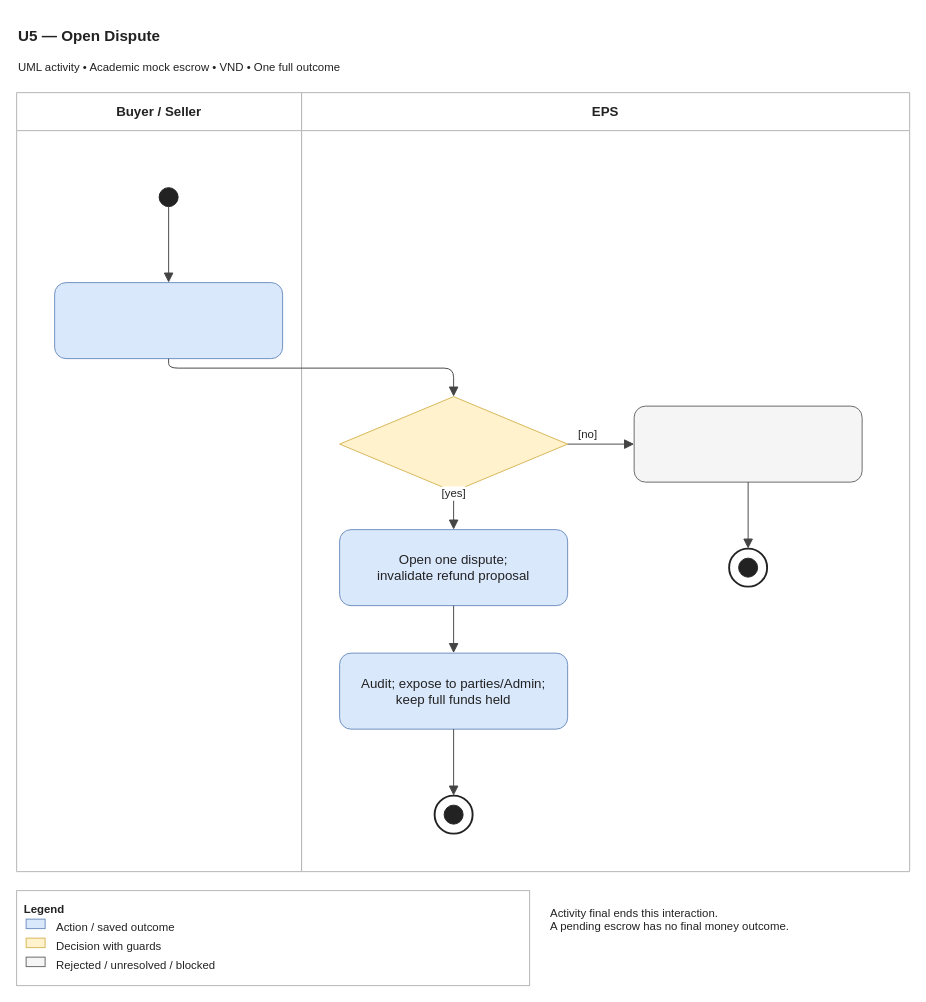
This 926x1002 diagram has some shape labels left out. Here are the shapes that lost their labels. From the top down, the centre of each, then its label:
At point (168, 320): "Submit dispute reason and optional proof".
At point (453, 444): "Dispute eligible?".
At point (747, 443): "Reject invalid / stale request; reuse accepted dispute".
